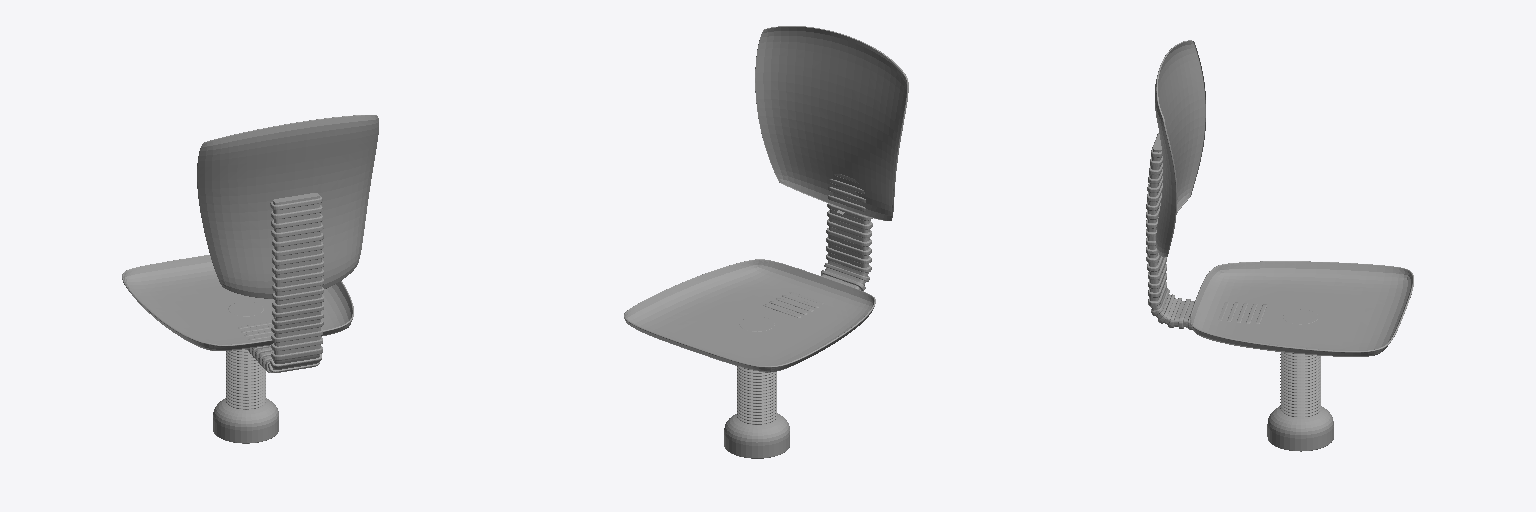
File: chair_lower_part.obj
3 views of the same model, side by side, from view 1: azimuth 30°, elevation 25°; view 2: azimuth 150°, elevation 25°; view 3: azimuth 270°, elevation 25° (orthographic).
Visible parts, largest first — view 1: Box027.001; view 2: Box027.001; view 3: Box027.001.
Part boxes in pixels (x1,y1,x2,y2): Box027.001: (122,115,378,443); Box027.001: (624,26,908,458); Box027.001: (1146,40,1413,451).
Bounding box in the file's own units: 0.5883 × 1.03 × 0.6928.